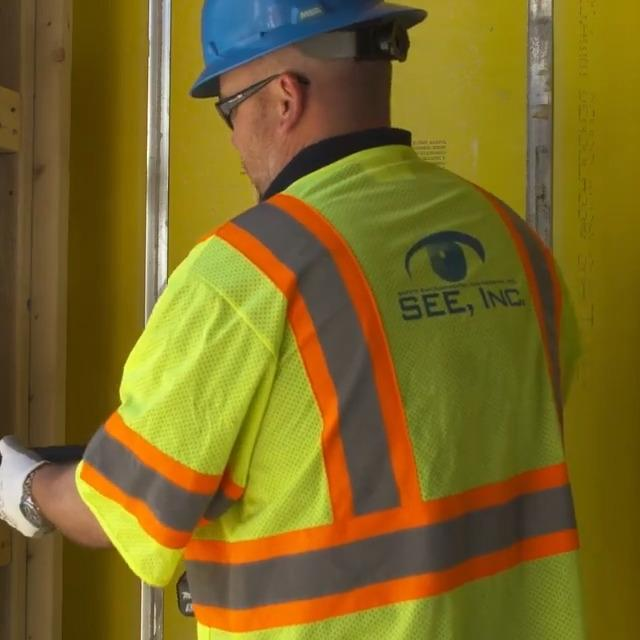Gloves: (0, 434, 46, 541)
Hardhat: (188, 0, 428, 105)
NO-Mask: (233, 108, 288, 200)
Person: (0, 0, 587, 640)
Safety Vest: (81, 157, 580, 635)
